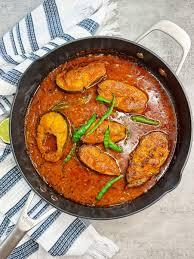Fish Curry: (40, 72, 169, 204)
